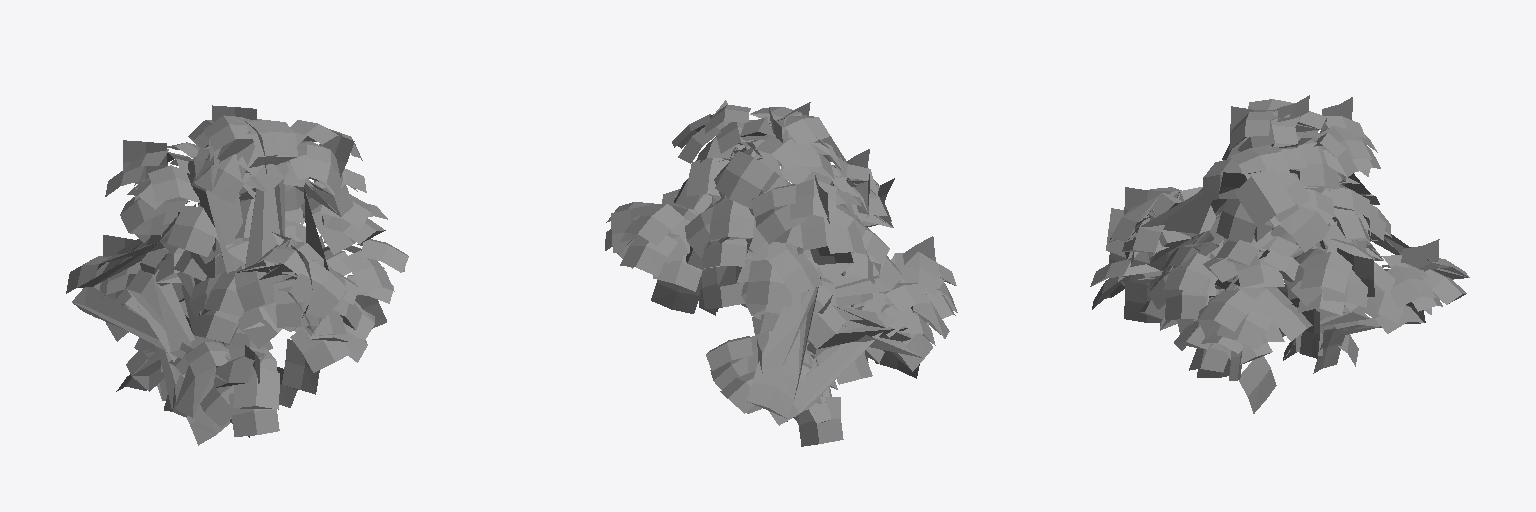
File: Tree_Type3.obj
3 renders of one model, left to right at view 1: azimuth 30°, elevation 25°; view 2: azimuth 150°, elevation 25°; view 3: azimuth 270°, elevation 25°, orthographic.
Visible parts, largest first — view 1: polySurface2108, polySurface65; view 2: polySurface2108, polySurface65; view 3: polySurface2108, polySurface65.
Boxes of the visible parts, box(x1,y1,x2,y2) form: polySurface2108: box(66, 105, 408, 445); polySurface65: box(67, 116, 387, 436); polySurface2108: box(605, 100, 956, 446); polySurface65: box(662, 113, 957, 423); polySurface2108: box(1090, 95, 1469, 413); polySurface65: box(1091, 108, 1468, 371).
Bounding box in the file's own units: 7.73 × 8.45 × 9.83.